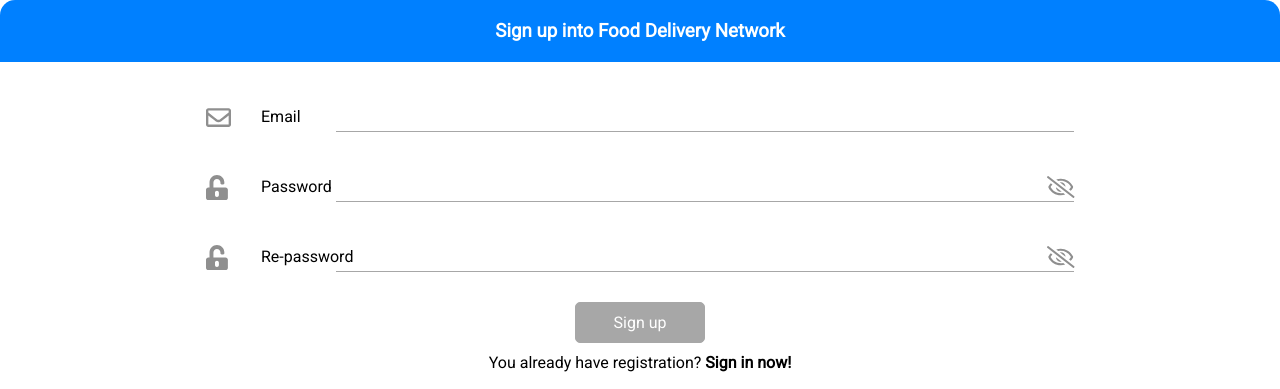
Register modal › should show email error
The width and height of the screenshot is (1280, 389).
Type "pesho" into the field with test id "email". click: (705, 117)
box: x1=336 y1=102 x2=1074 y2=132
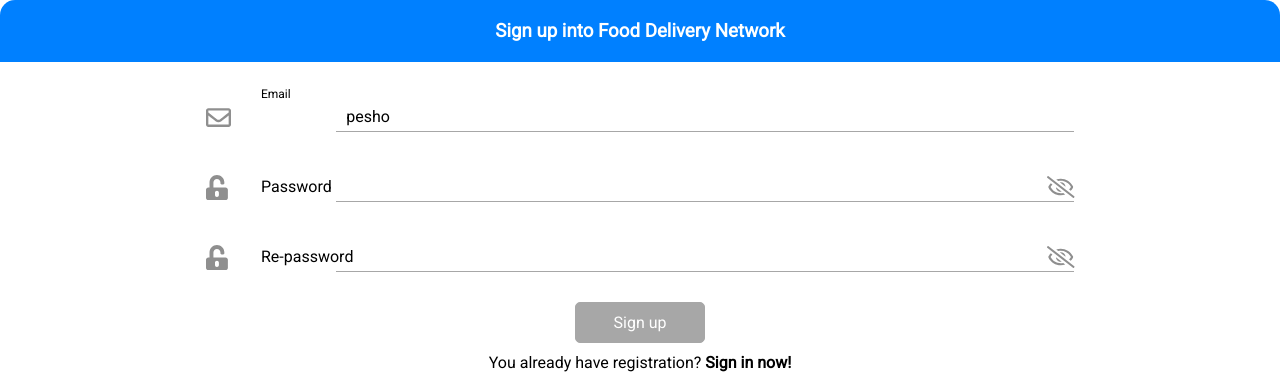
Click the password field with test id "password". click: (705, 187)
box: x1=336 y1=172 x2=1074 y2=202
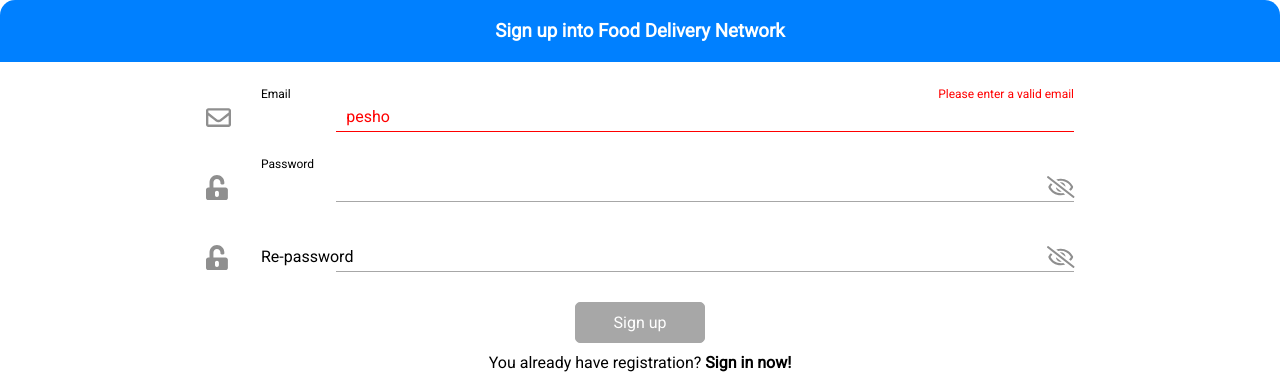
Expected: the text "Please enter a valid email" is shown, x1=938 y1=87 x2=1074 y2=101
